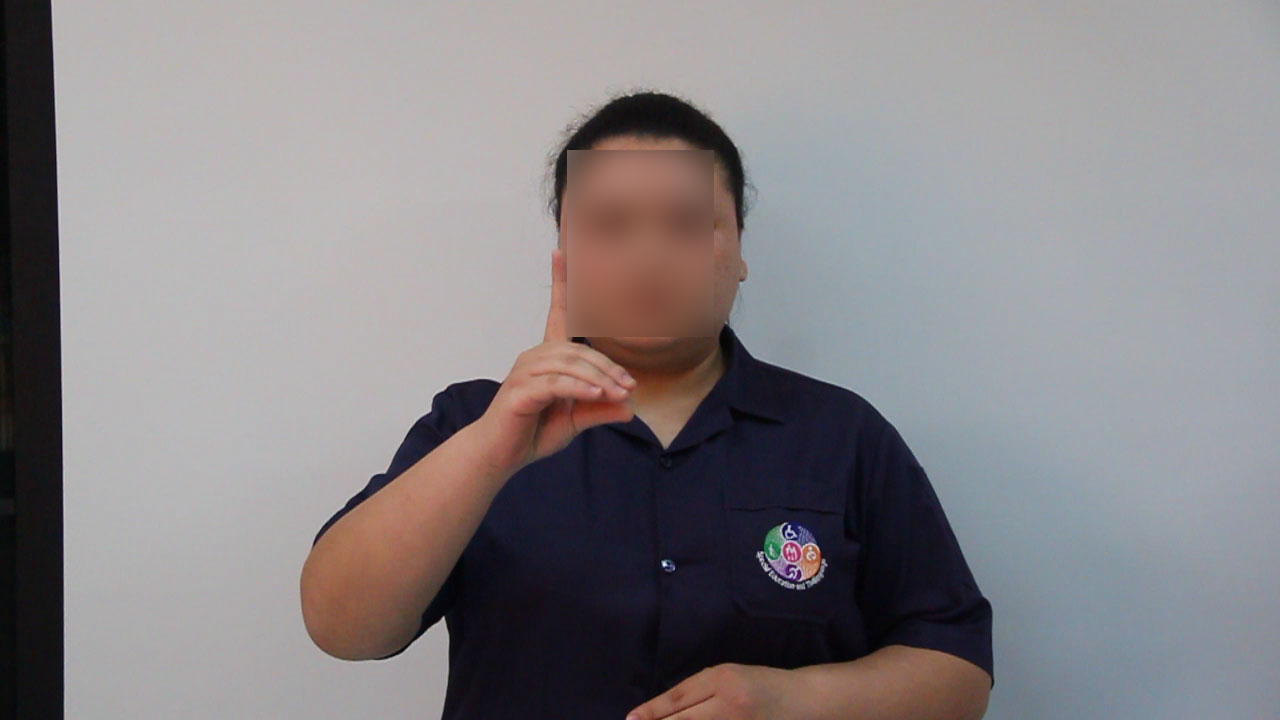dor: (479, 240, 647, 466)
